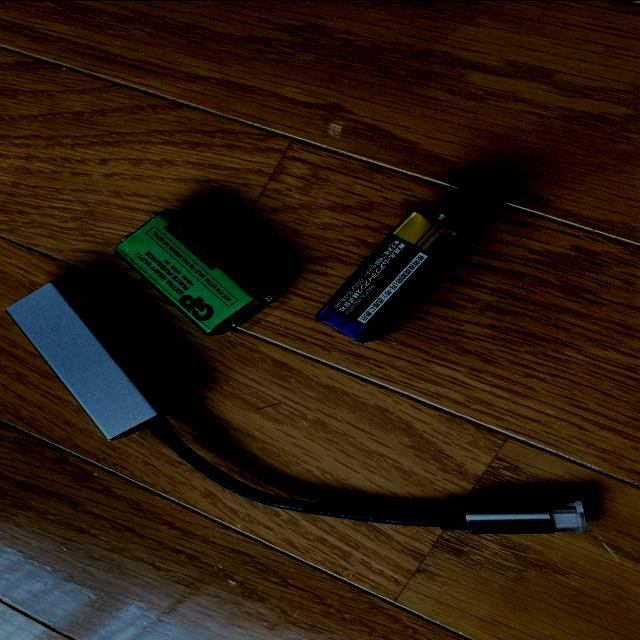9V: (114, 207, 281, 335), (317, 208, 470, 342)
